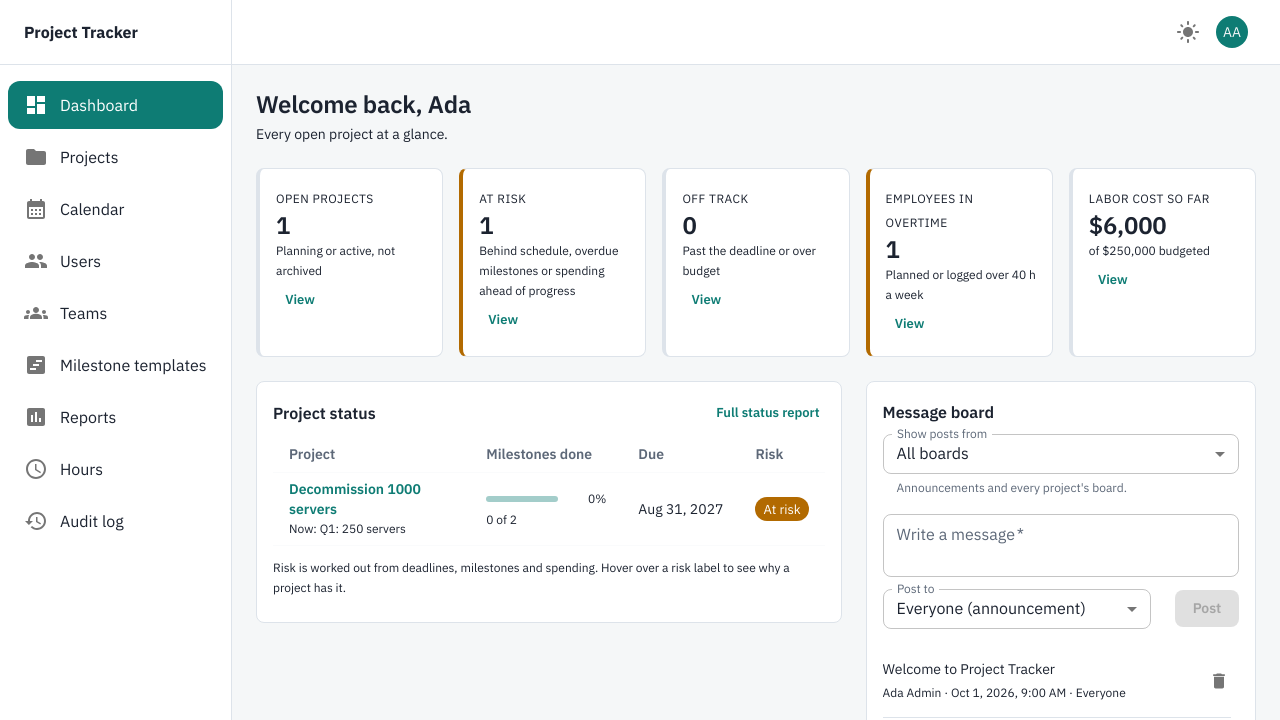
message board › admins delete any message after confirming
Click the button named "Delete message". click: coordinates (1219, 680)
box: [1204,666,1234,696]
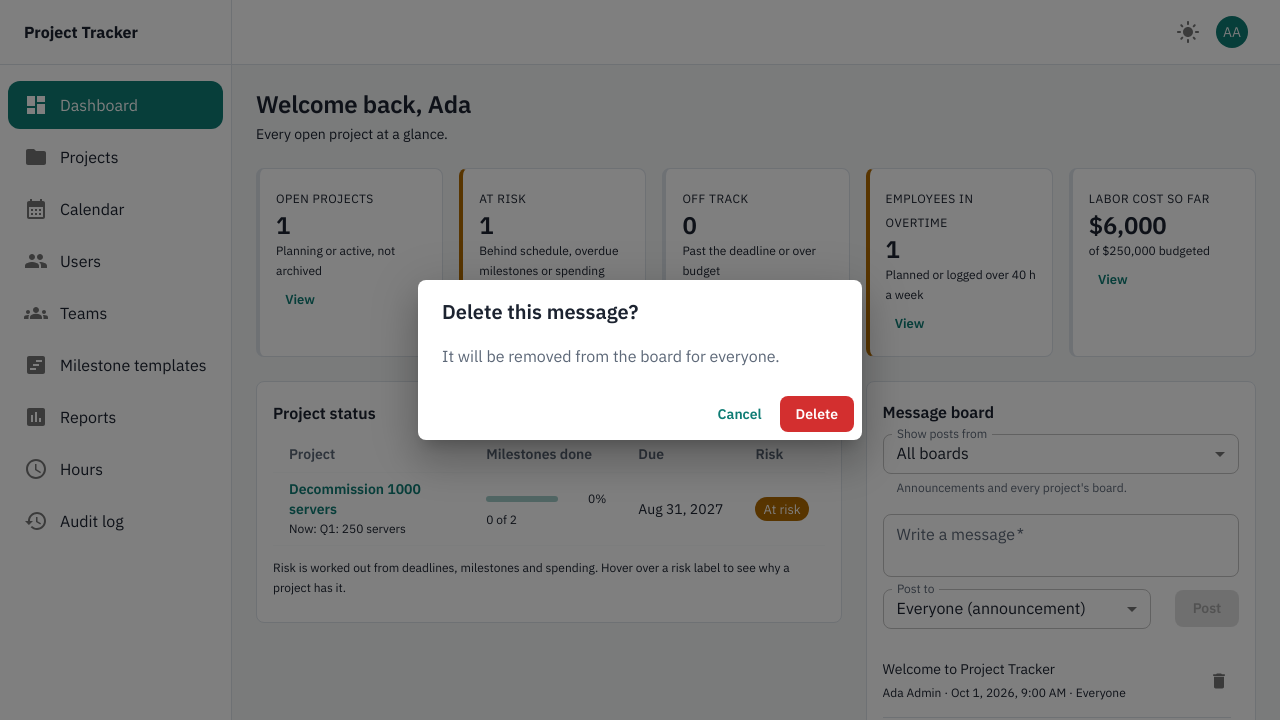
Now the text "It will be removed from the board for everyone." is shown, box [442,344,838,368]
Click the button "Cancel". click: coordinates (740, 414)
box: [708,396,772,432]
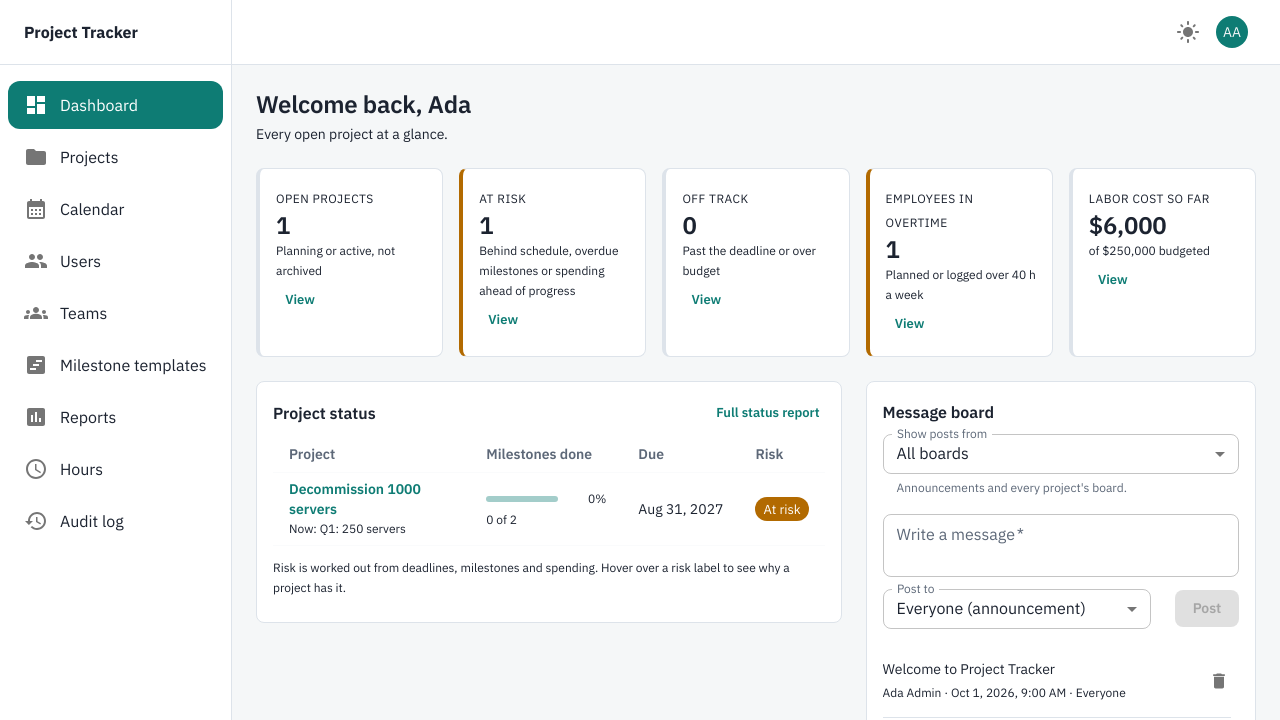
Now the dialog is gone
Click the button named "Delete message". click: coordinates (1219, 680)
box: [1204,666,1234,696]
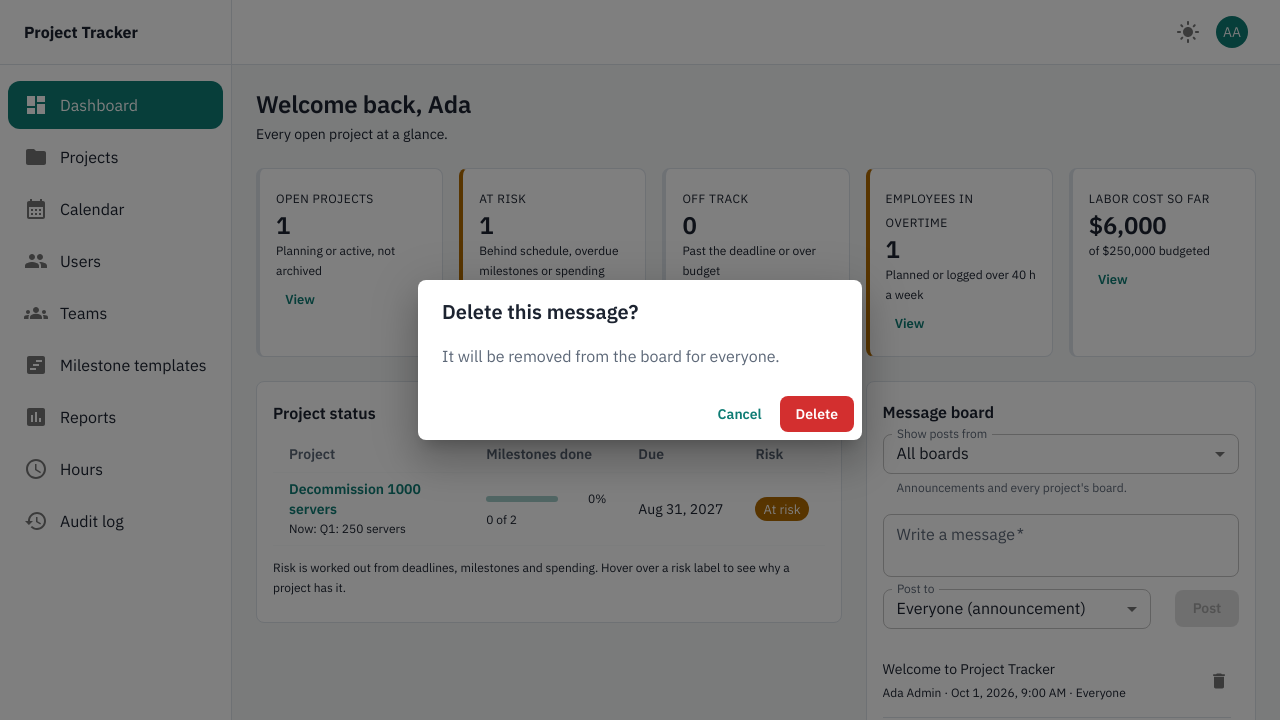
Click the button "Delete". click: coordinates (817, 414)
box: [780,396,854,432]
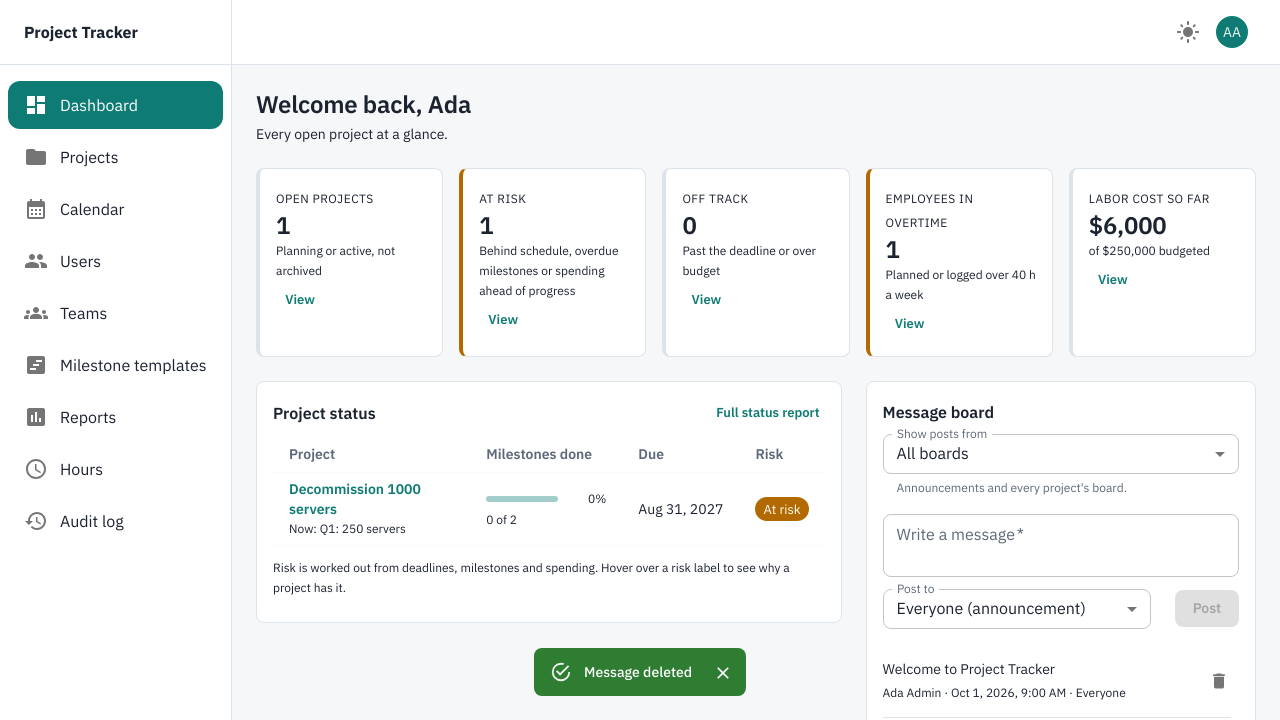
Now the text "Message deleted" is shown, box [584,663,692,681]
